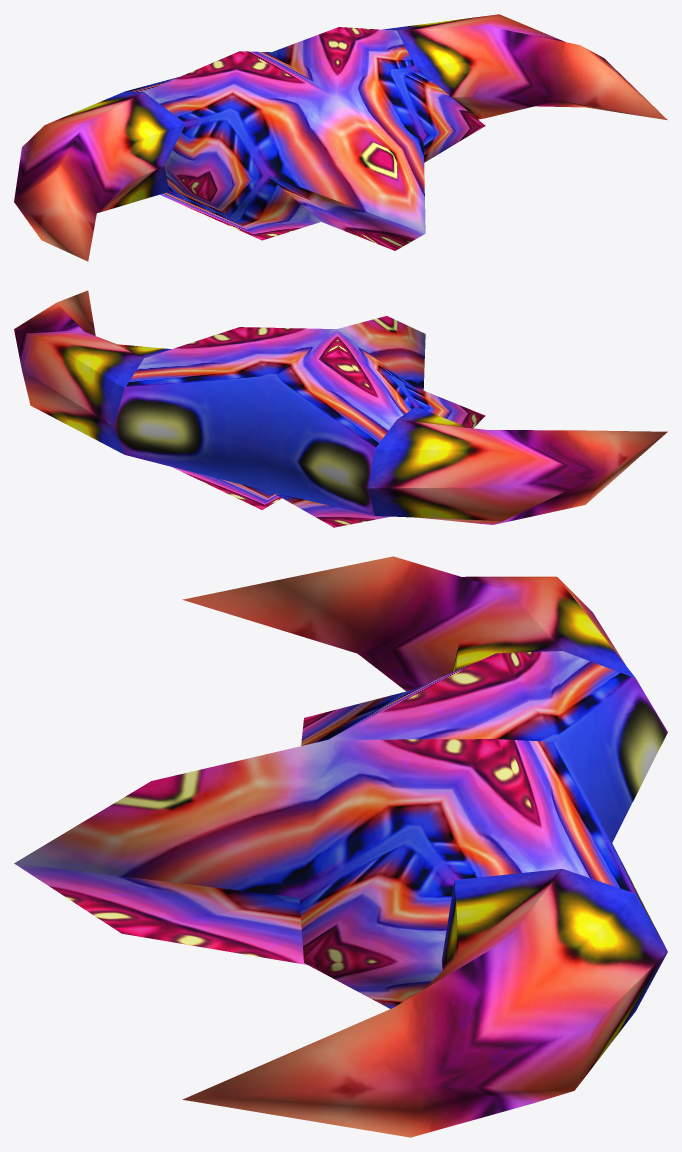
File: ship-53.fbx
The picture shows the model from 3 angles, top to bottom: view 1: azimuth 30°, elevation 25°; view 2: azimuth 150°, elevation 25°; view 3: azimuth 270°, elevation 25°; orthographic projection. The views are drawn at different scales.
Parts seen in each view (by area): view 1: ship-53; view 2: ship-53; view 3: ship-53.
Part boxes in pixels (<box>): ship-53: <box>14,14,667,261</box>; ship-53: <box>14,290,667,527</box>; ship-53: <box>14,556,667,1137</box>.
Bounding box in the file's own units: 62.53 × 18.86 × 33.97.
